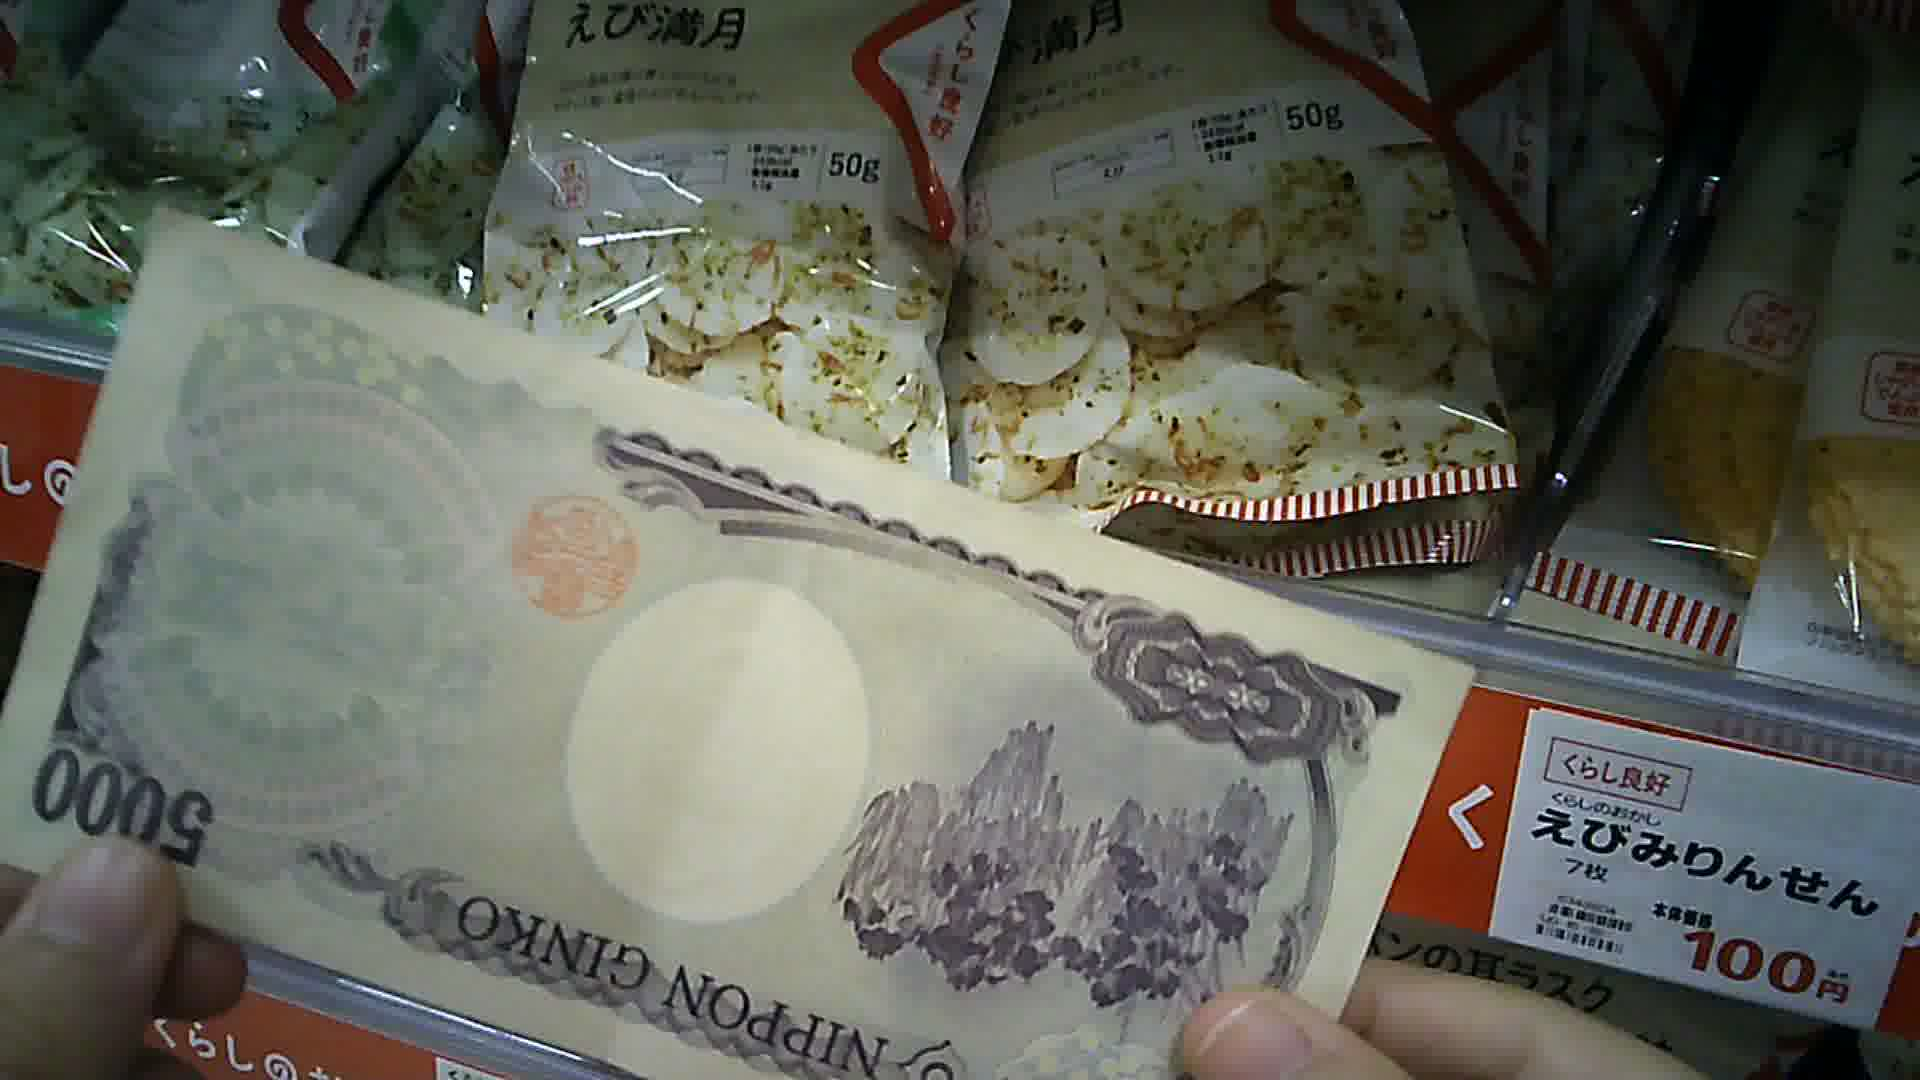5,000 Yen: (15, 193, 1400, 1079)
